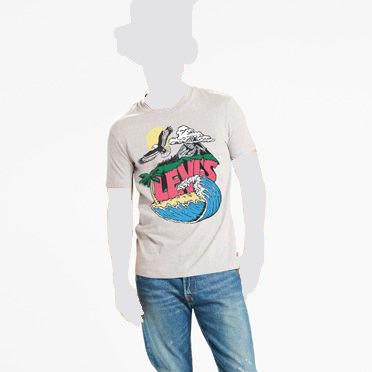teeshirt: (99, 84, 263, 280)
